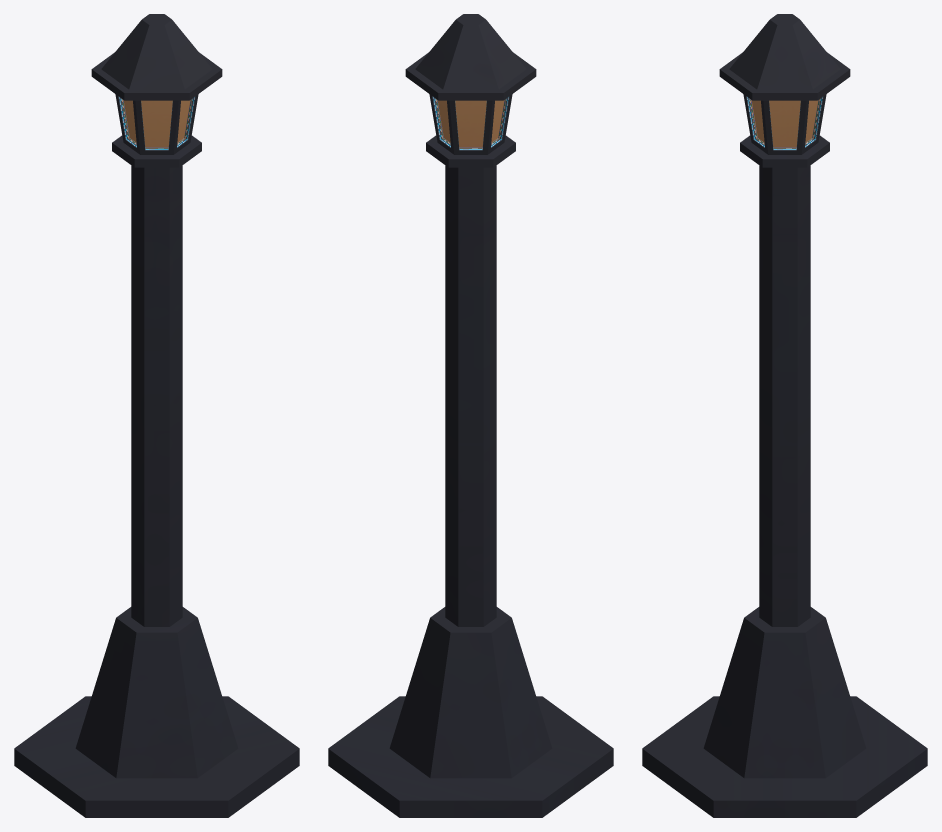
File: MetallLamp.fbx
3 renders of one model, left to right at view 1: azimuth 30°, elevation 25°; view 2: azimuth 150°, elevation 25°; view 3: azimuth 270°, elevation 25°, orthographic.
Parts seen in each view (by area): view 1: Metall Lampe; view 2: Metall Lampe; view 3: Metall Lampe.
Part boxes in pixels (x1=…): Metall Lampe: x1=14, y1=14, x2=299, y2=817; Metall Lampe: x1=328, y1=14, x2=613, y2=817; Metall Lampe: x1=642, y1=14, x2=927, y2=817.
Size of the model in its own units: 105 by 350 by 121.
Materials: 1 (1 with a texture image).
